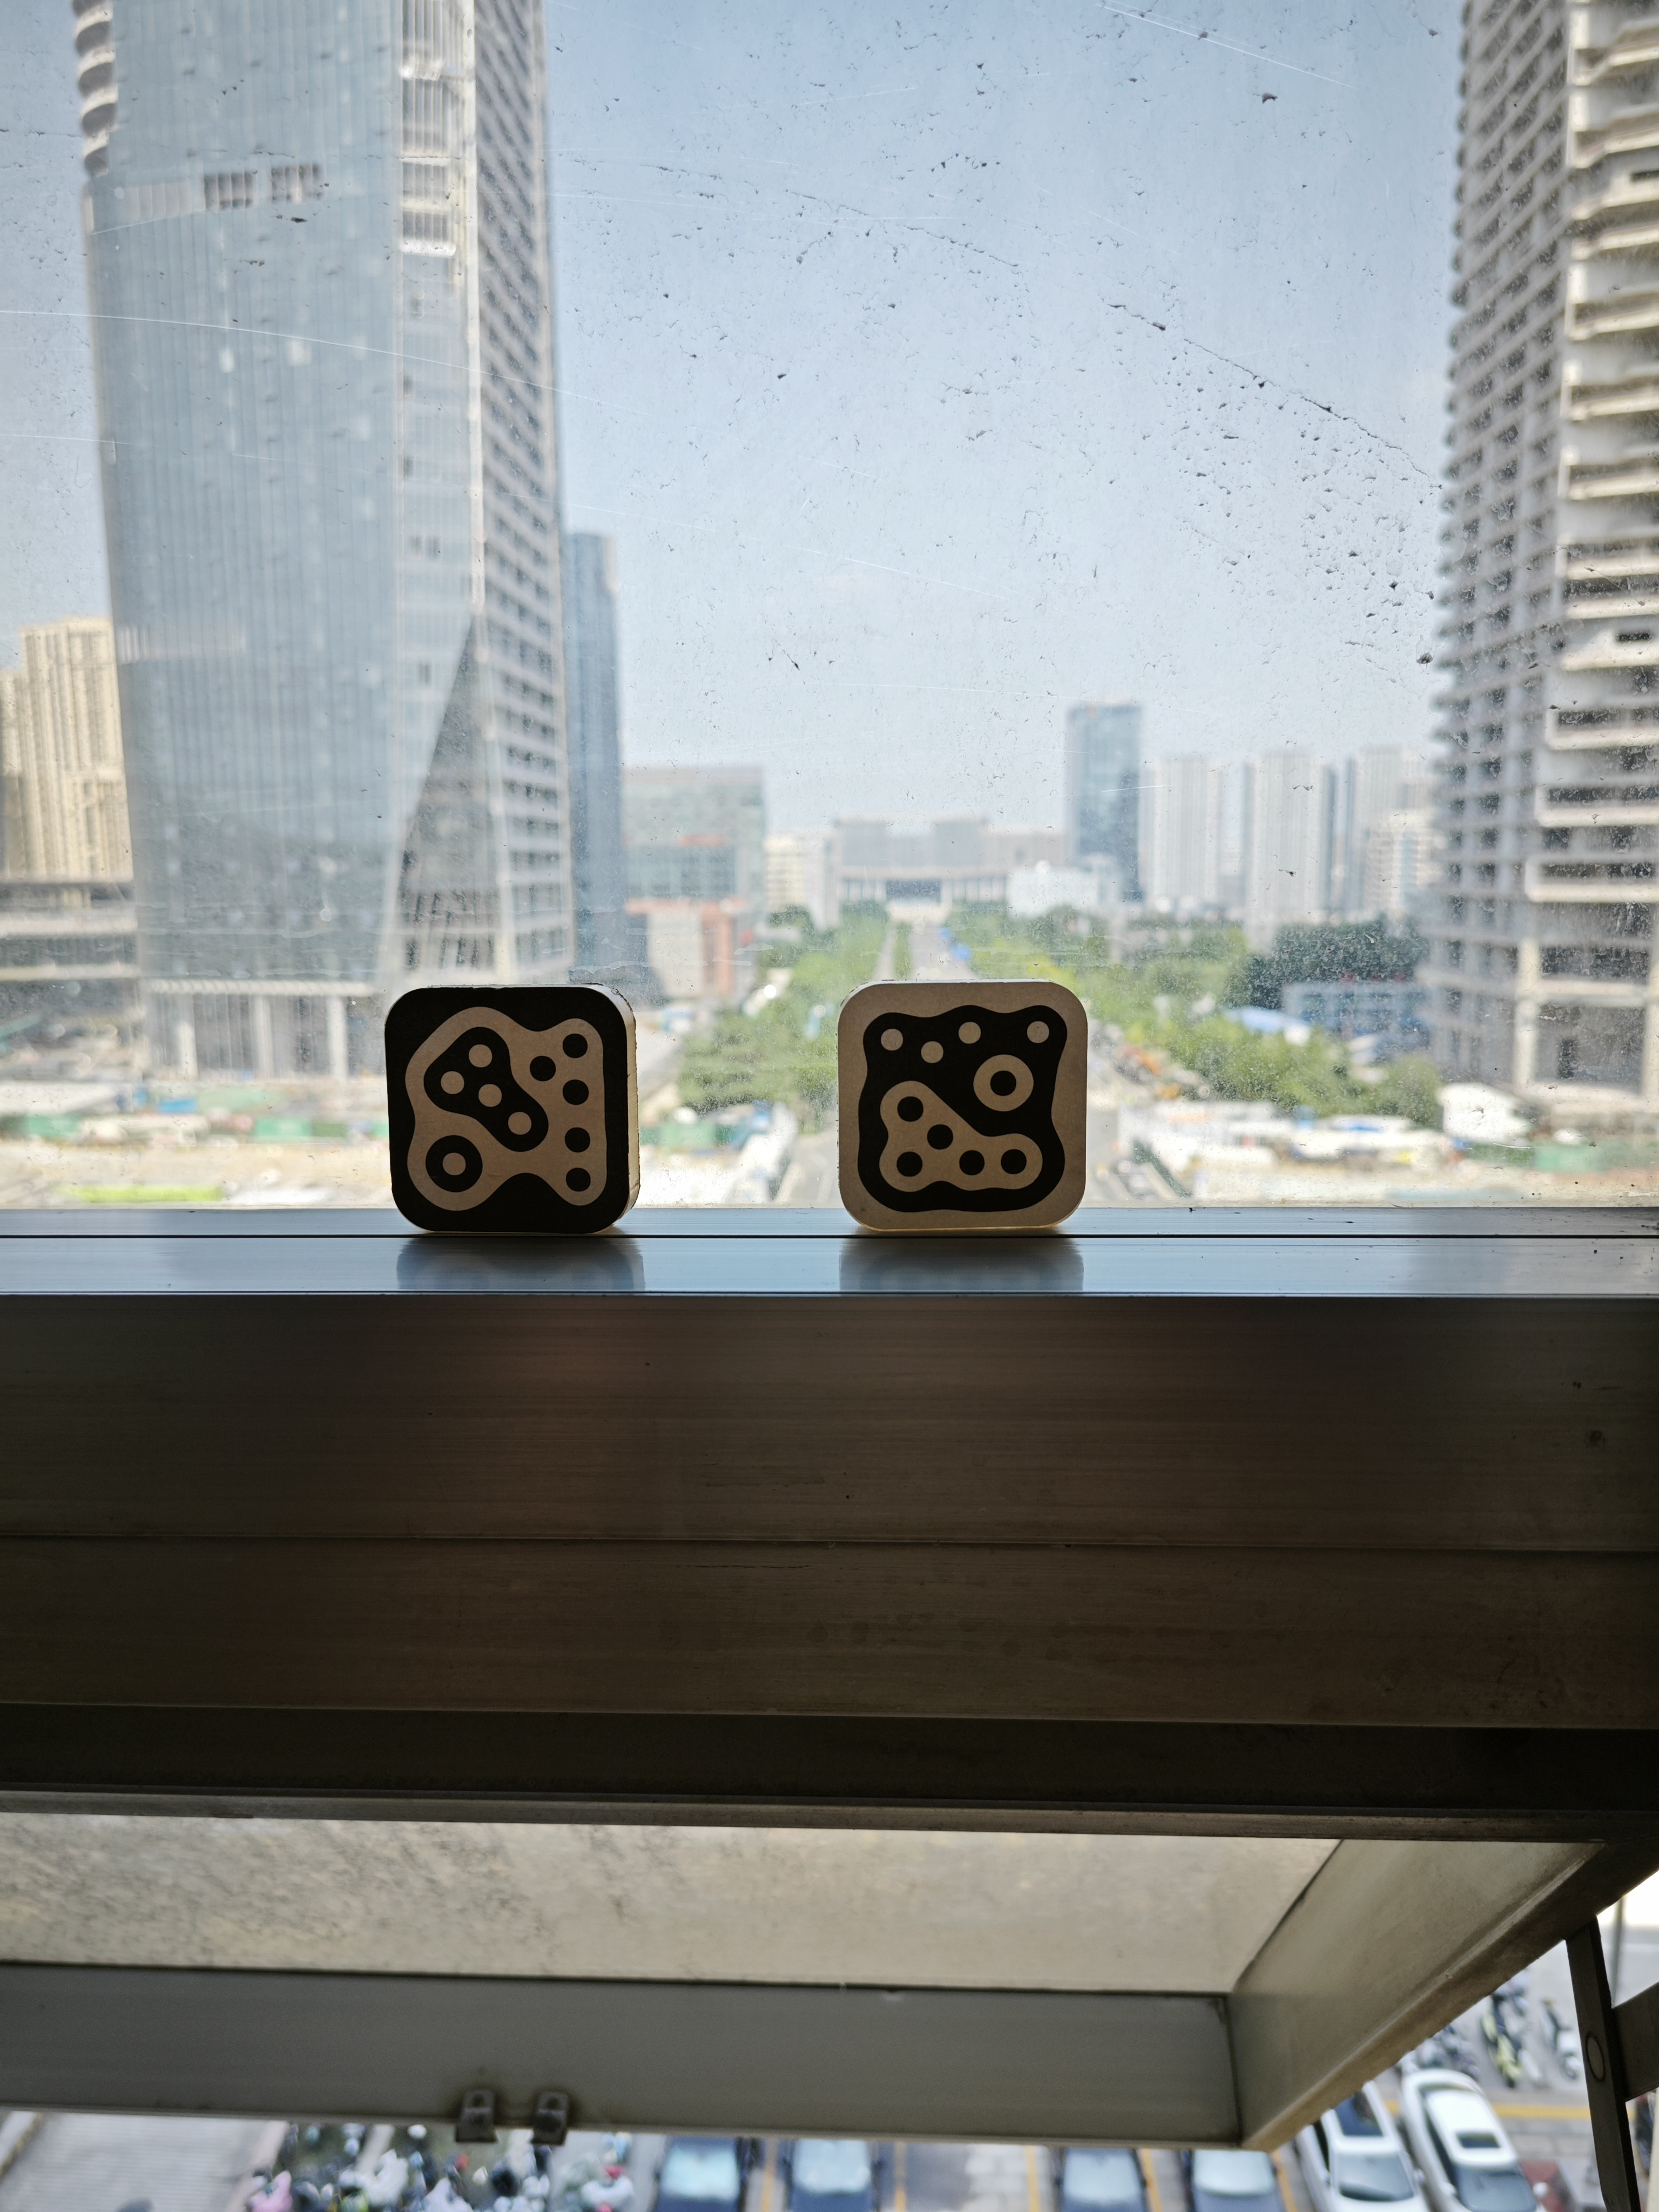mark1: (847, 1000, 1072, 1212)
mark2: (394, 1003, 619, 1223)
